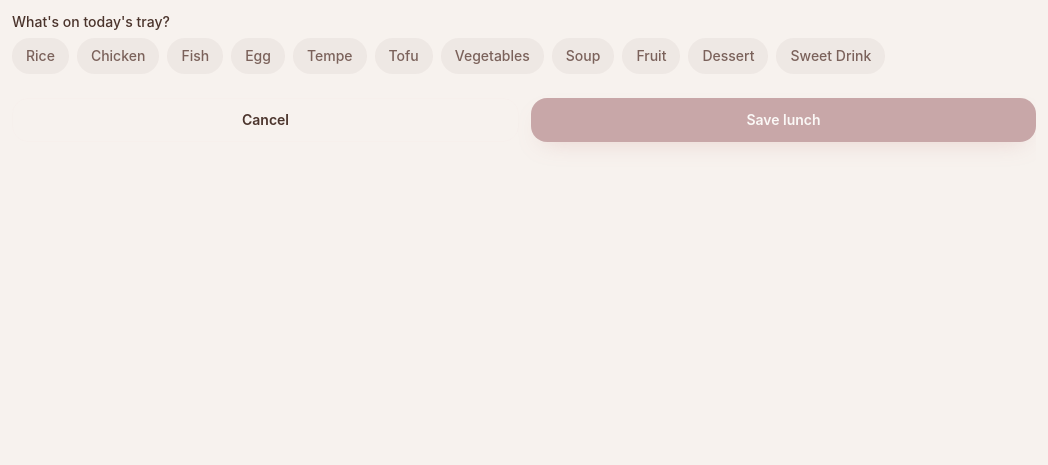
Test: OfficeLunchQuickForm › estimates and shows combined nutrition once items are selected
The width and height of the screenshot is (1048, 465).
Click the button "Rice": (40, 56) [12,38,69,74]
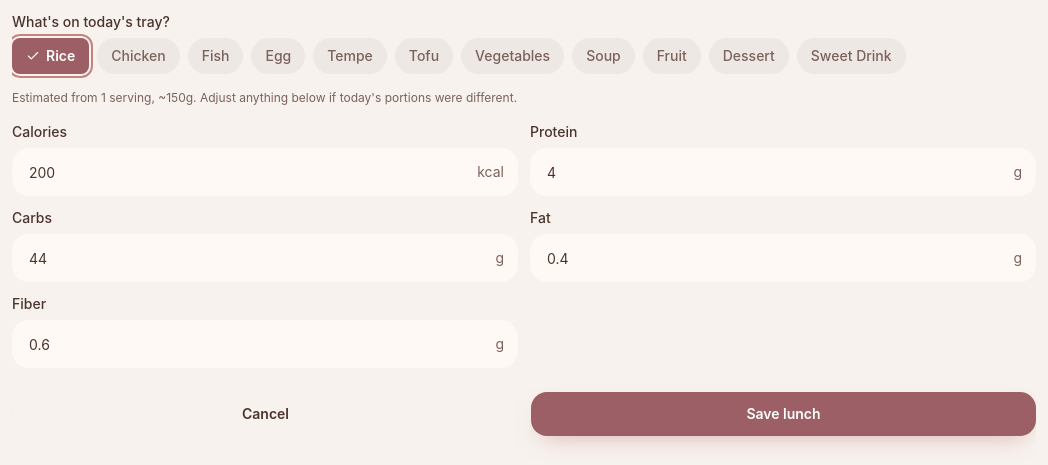
Click the button "Chicken": (138, 56) [97,38,180,74]
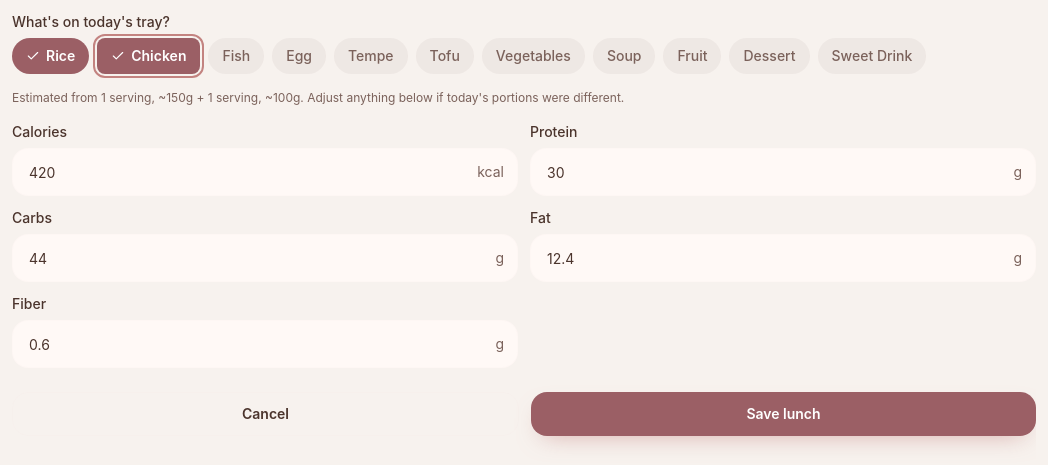
Expected: the button "Save lunch" is enabled, [531,392,1036,436]
Expected: the number field labelled "Calories" holds "420", [12,148,518,196]
